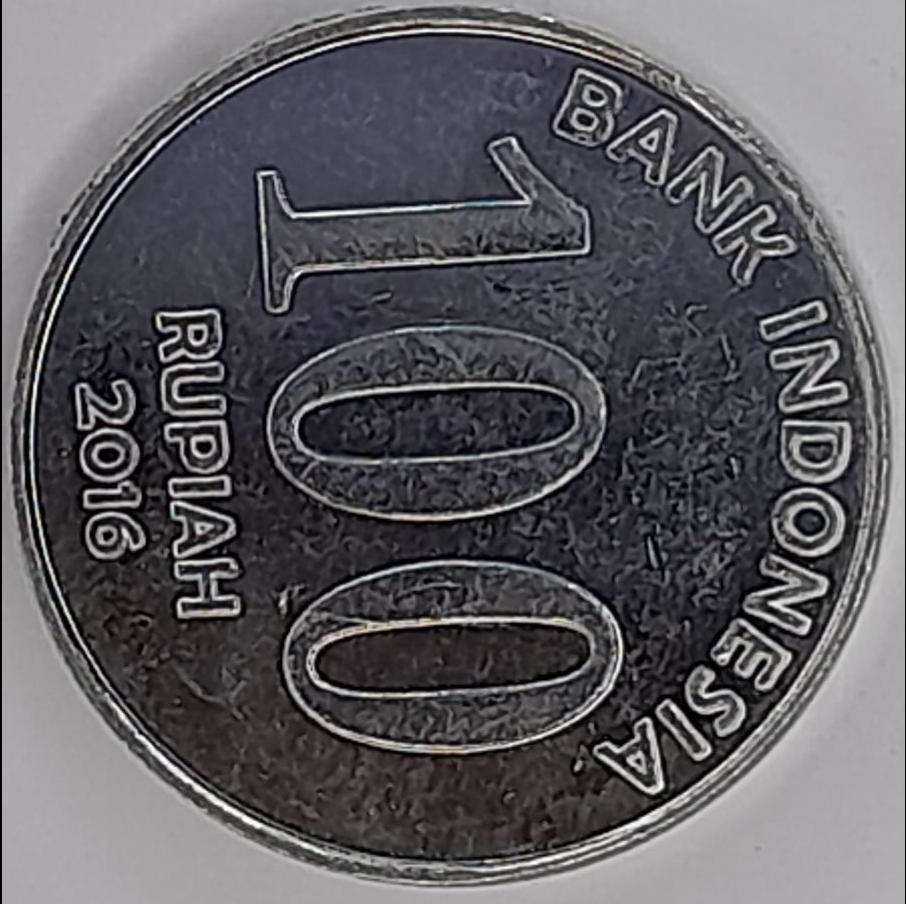coin_100_e2016: (4, 0, 898, 889)
